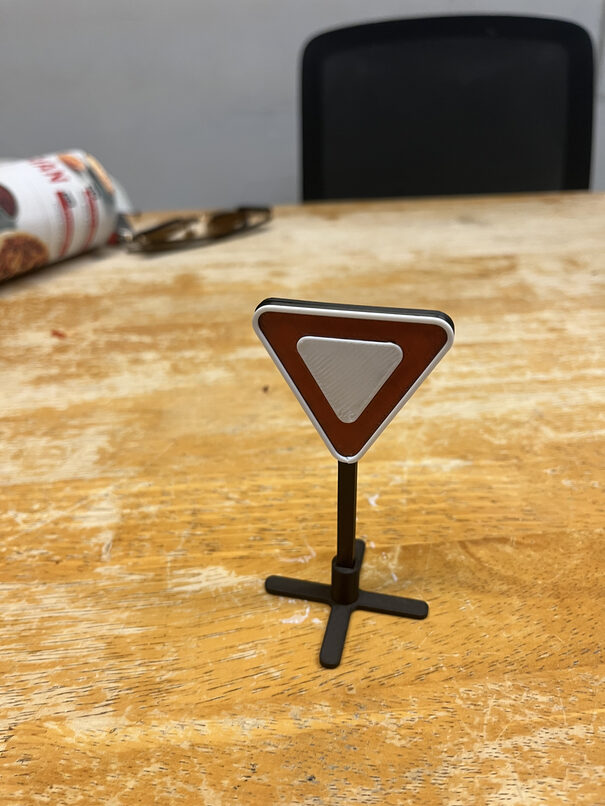sign_yield: (243, 296, 469, 469)
